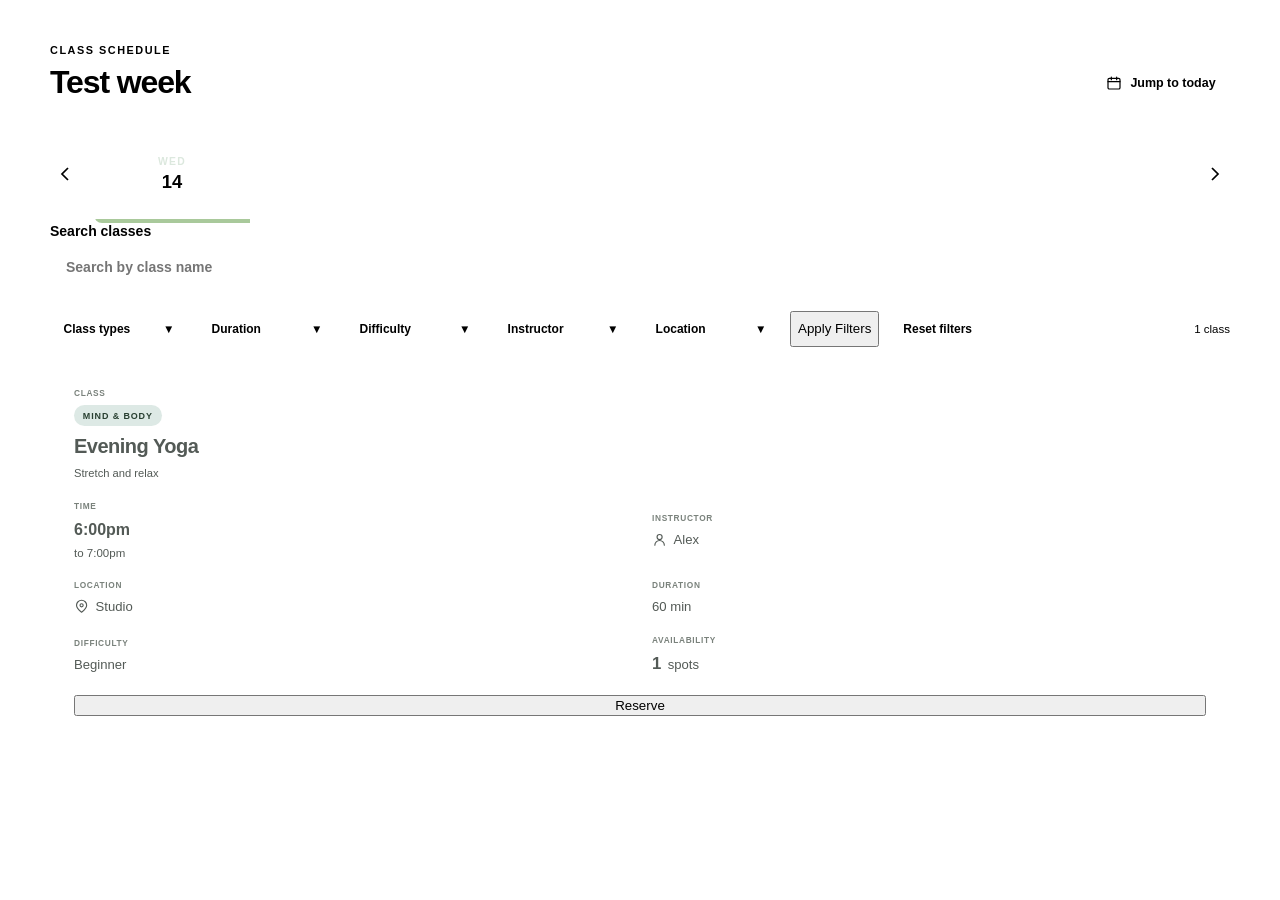
refreshes availability and explains a rejected booking (409, This class has changed. Refresh the schedule and try again.)
Click the button "Reserve".
click(640, 705)  # box [74,695,1206,716]
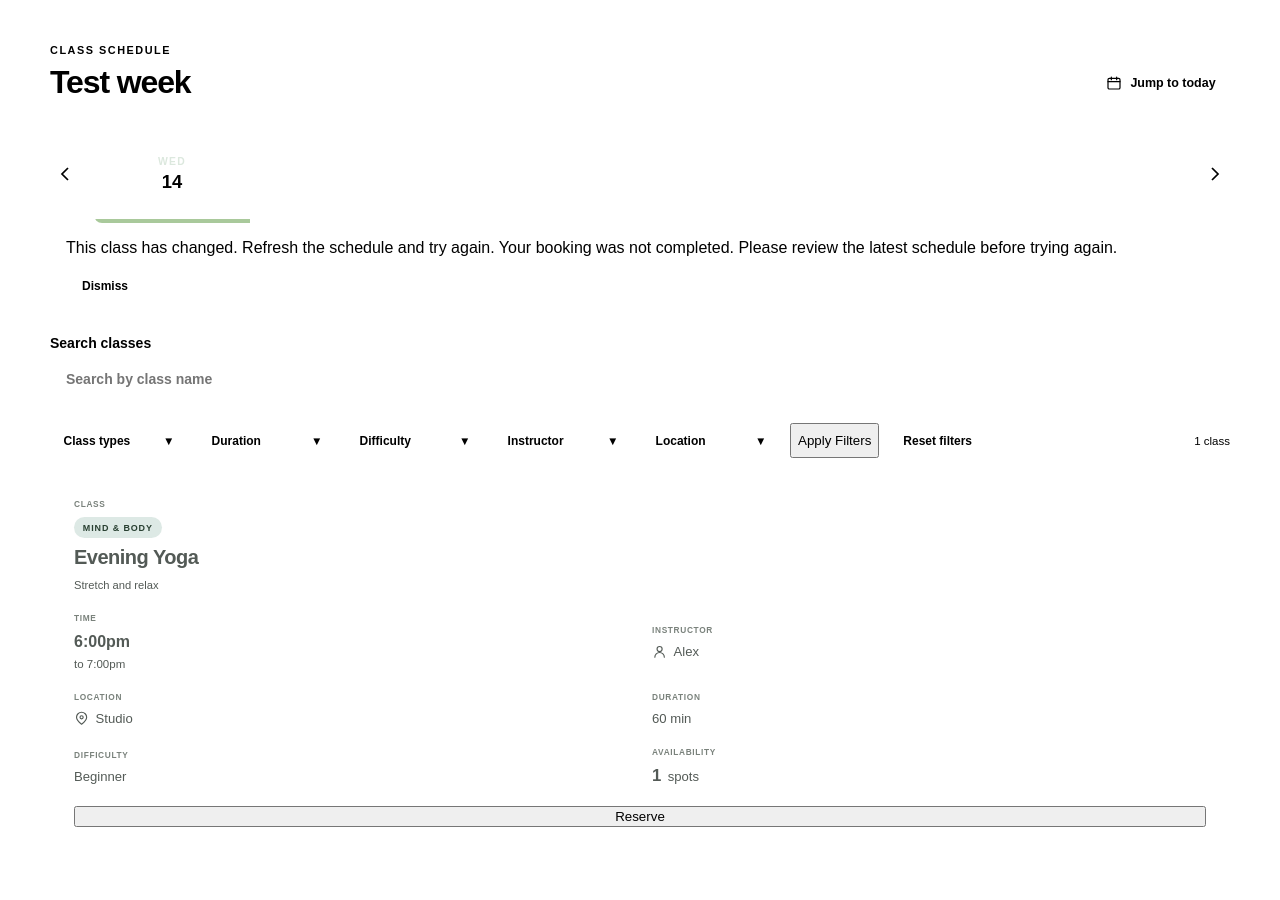
Now the 1st message shows "This class has changed. Refresh the schedule and try again.", box [66,239,1117,256]
Now the 1st message shows "Your booking was not completed.", box [66,239,1117,256]
